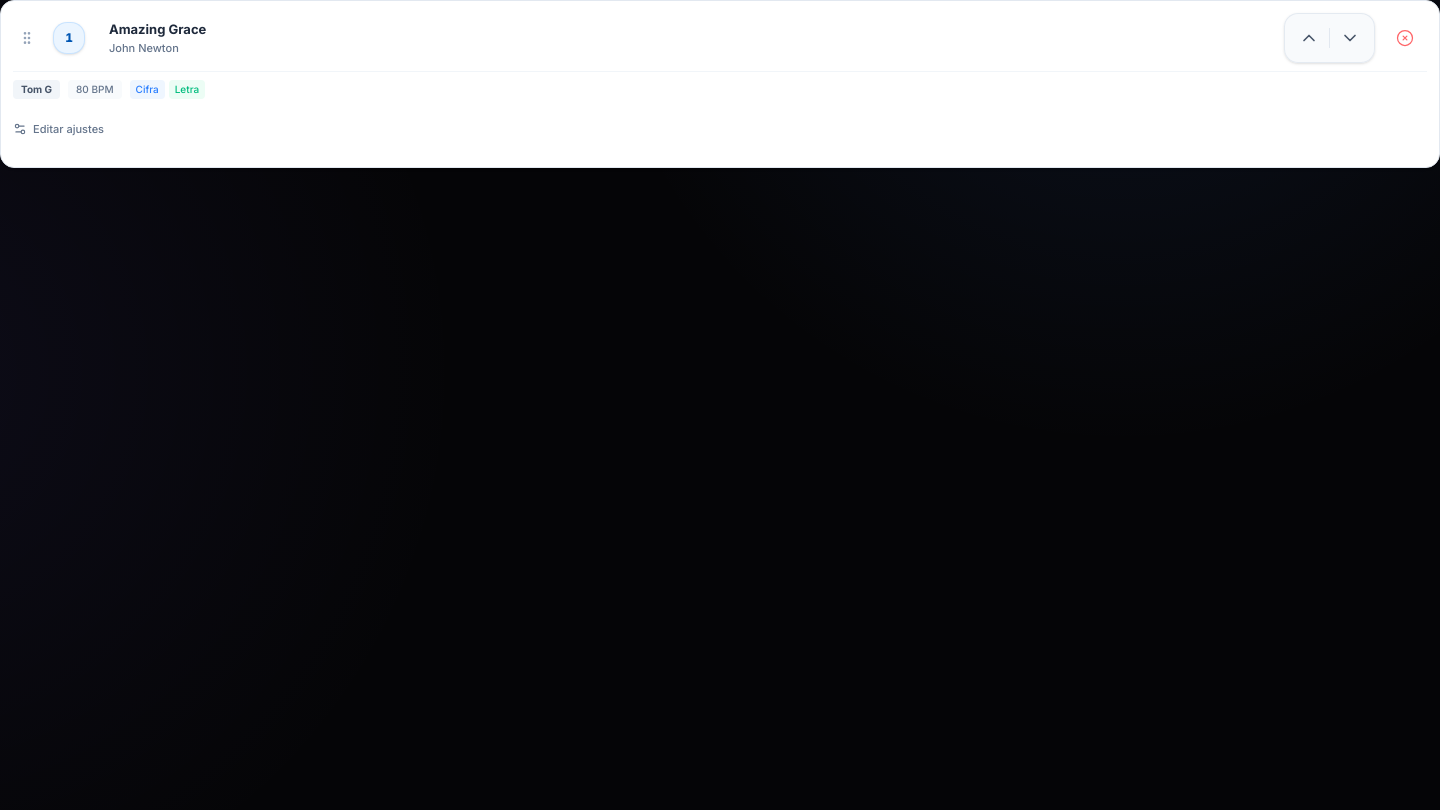
Scenario: ScaleSongCard Settings UI Integration Tests › renders settings button and opens editor on click
Expected: the text "Editar ajustes" is shown, [33, 121, 104, 137]
Click the button "Editar ajustes": point(58, 129) [9, 107, 108, 151]
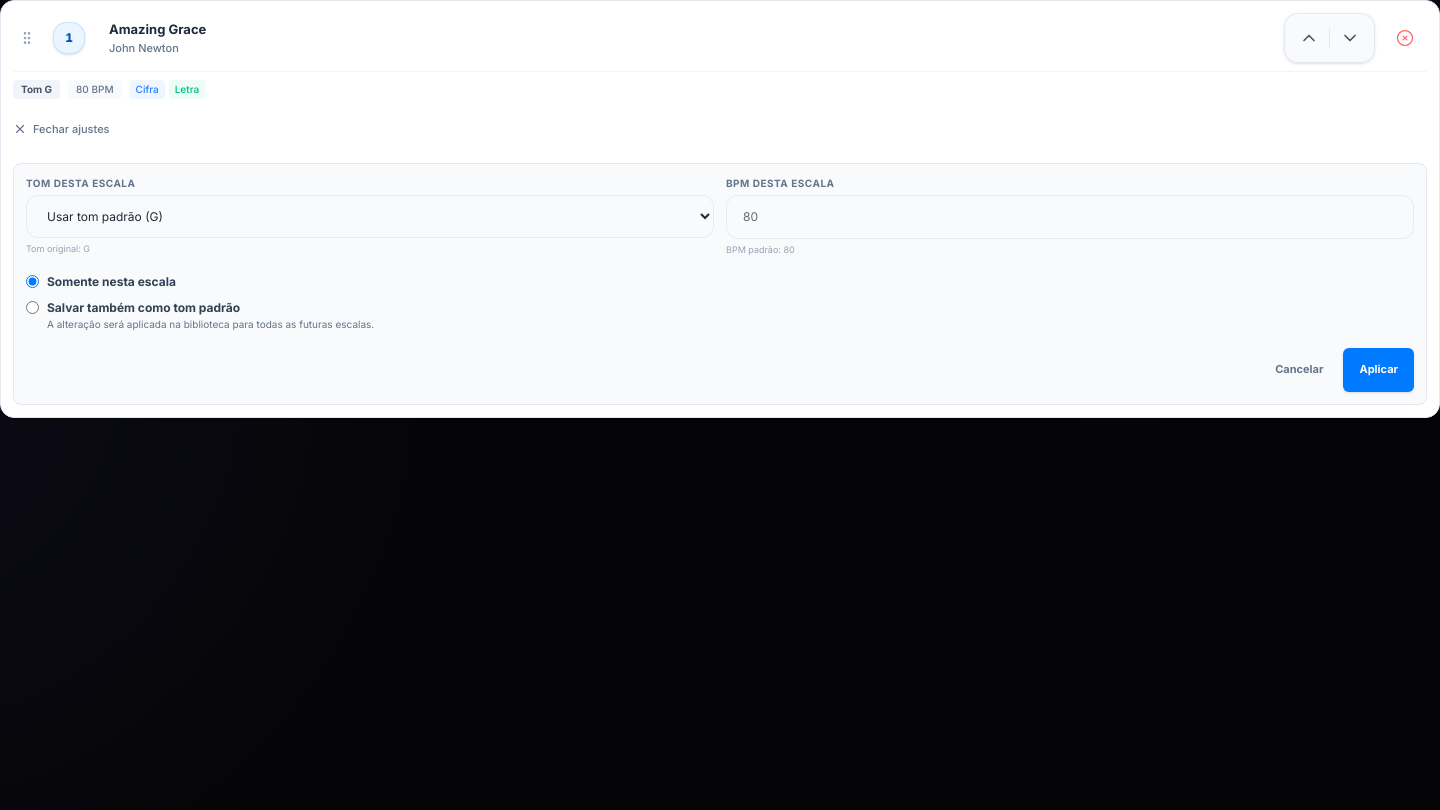
Expected: the text "Tom desta escala" is shown, [26, 177, 136, 189]
Expected: the text "BPM desta escala" is shown, [726, 177, 834, 189]
